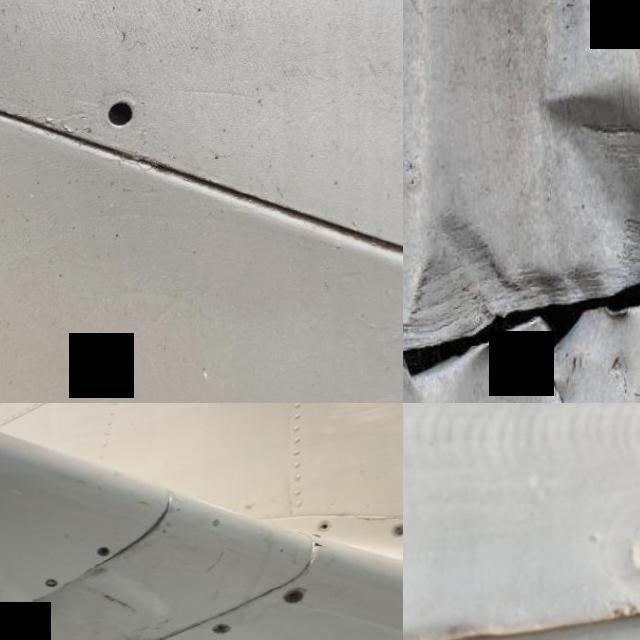Crack: (403, 264, 640, 403), (348, 519, 402, 533), (312, 546, 328, 556)
Dent: (533, 78, 640, 267)
Missing_Fastener: (65, 68, 166, 170), (597, 500, 640, 612), (283, 594, 304, 610), (210, 628, 229, 638), (316, 528, 330, 538), (96, 550, 110, 560), (44, 580, 56, 590), (0, 606, 8, 618)
